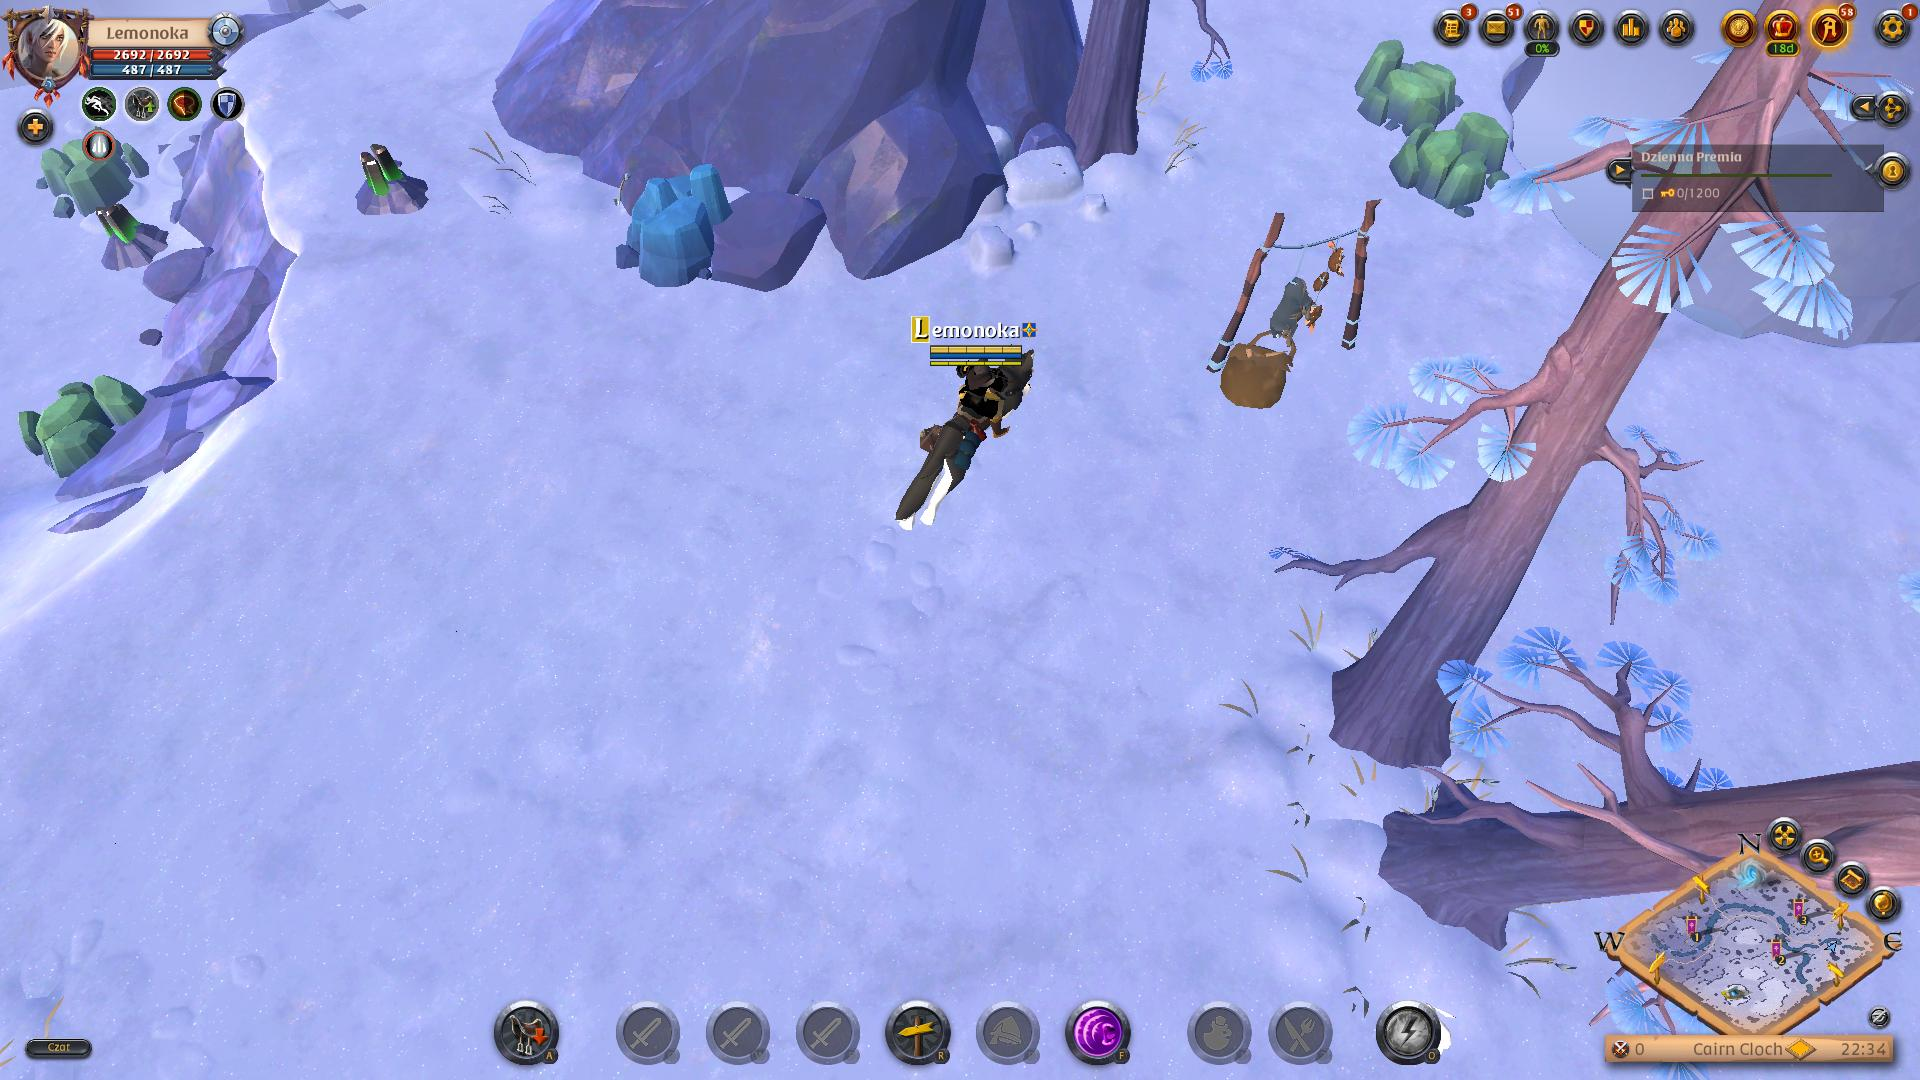ore tier 3: (352, 140, 434, 222), (92, 200, 170, 270)
rock tier 3: (13, 372, 148, 473), (1391, 109, 1510, 215), (1352, 37, 1457, 140)
rock tier 4: (611, 162, 733, 284)
